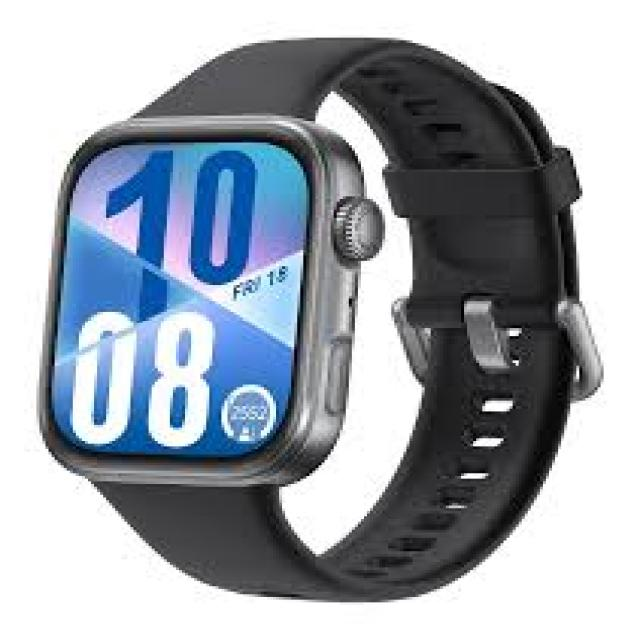objects: (39, 38, 598, 600)
